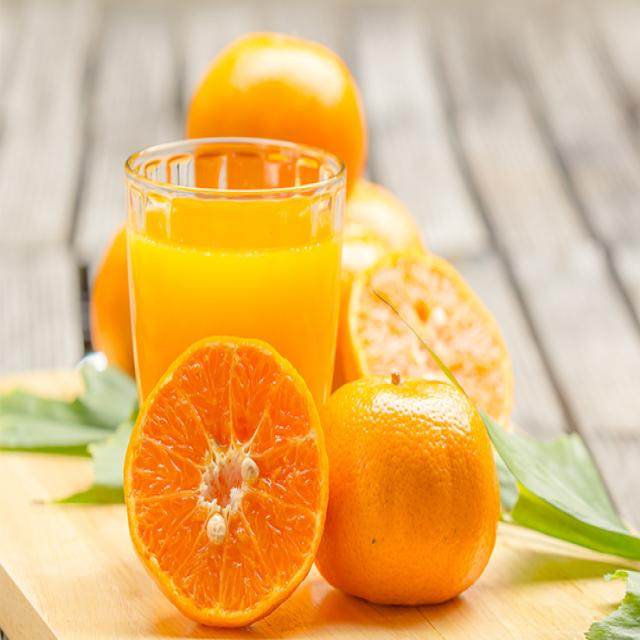orange: (120, 329, 330, 628), (321, 366, 505, 608), (345, 248, 517, 436)
